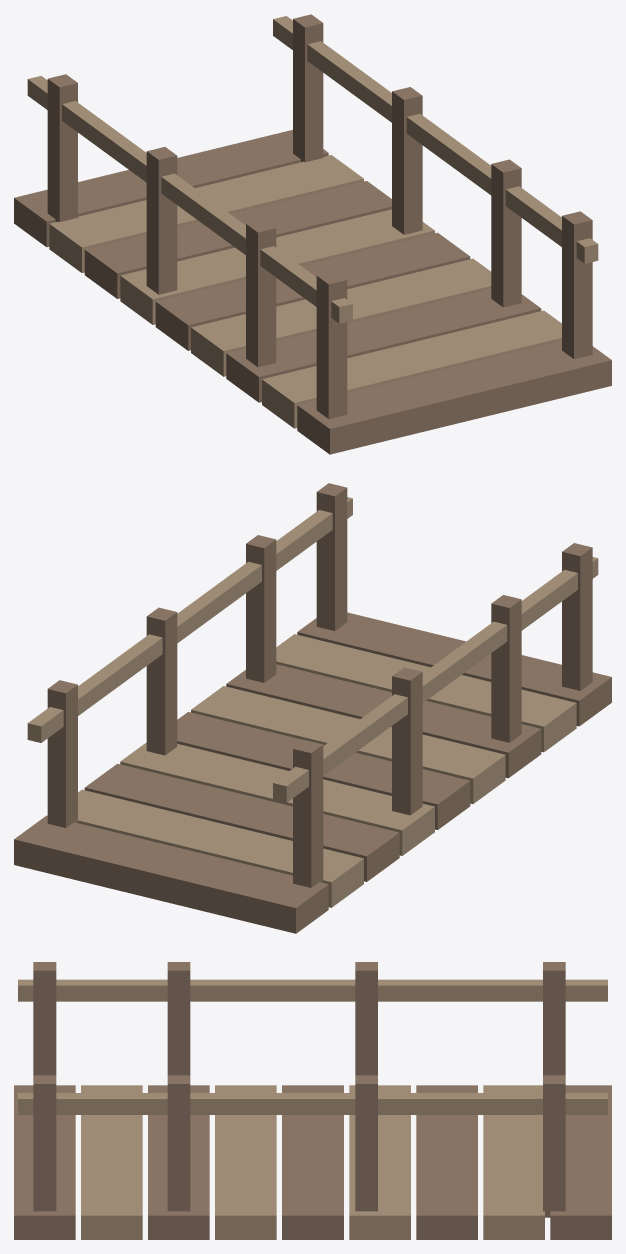
The model's file is ponte_madeira.glb.
The picture shows the model from 3 angles, top to bottom: view 1: azimuth 30°, elevation 25°; view 2: azimuth 150°, elevation 25°; view 3: azimuth 270°, elevation 25°; orthographic projection. The views are drawn at different scales.
Visible parts, largest first — view 1: part_008, part_007, part_001, part_006, part_005, part_004, part_002, part_003, part_000, part_018, part_013, part_012 (+7 smaller); view 2: part_000, part_002, part_001, part_005, part_003, part_006, part_007, part_004, part_013, part_008, part_018, part_015 (+7 smaller); view 3: part_013, part_018, part_002, part_004, part_005, part_007, part_001, part_000, part_008, part_003, part_006, part_017 (+7 smaller).
Part boxes in pixels (<box>): part_008: <box>297,340,611,454</box>; part_007: <box>262,310,561,428</box>; part_001: <box>49,155,363,272</box>; part_006: <box>226,289,541,402</box>; part_005: <box>191,258,491,376</box>; part_004: <box>155,232,470,350</box>; part_002: <box>84,181,391,298</box>; part_003: <box>120,209,434,324</box>; part_000: <box>14,130,328,247</box>; part_018: <box>273,16,598,263</box>; part_013: <box>27,76,352,323</box>; part_012: <box>316,271,347,418</box>; part_000: <box>14,815,328,933</box>; part_002: <box>84,763,399,881</box>; part_001: <box>77,789,363,907</box>; part_005: <box>191,686,505,803</box>; part_003: <box>120,742,434,855</box>; part_006: <box>226,664,541,778</box>; part_007: <box>276,634,576,752</box>; part_004: <box>177,712,470,829</box>; part_013: <box>273,557,598,802</box>; part_008: <box>297,612,611,726</box>; part_018: <box>27,497,352,742</box>; part_015: <box>146,607,177,755</box>; part_013: <box>18,979,607,1001</box>; part_018: <box>18,1093,607,1114</box>; part_002: <box>416,1085,477,1239</box>; part_004: <box>282,1085,343,1239</box>; part_005: <box>215,1085,276,1239</box>; part_007: <box>81,1085,142,1239</box>; part_001: <box>483,1085,544,1239</box>; part_000: <box>550,1085,611,1239</box>; part_008: <box>14,1085,75,1239</box>; part_003: <box>349,1085,410,1239</box>; part_006: <box>148,1085,209,1239</box>; part_017: <box>33,1075,56,1211</box>.
Size of the model in its own units: 2.3 by 1.25 by 4.46.
